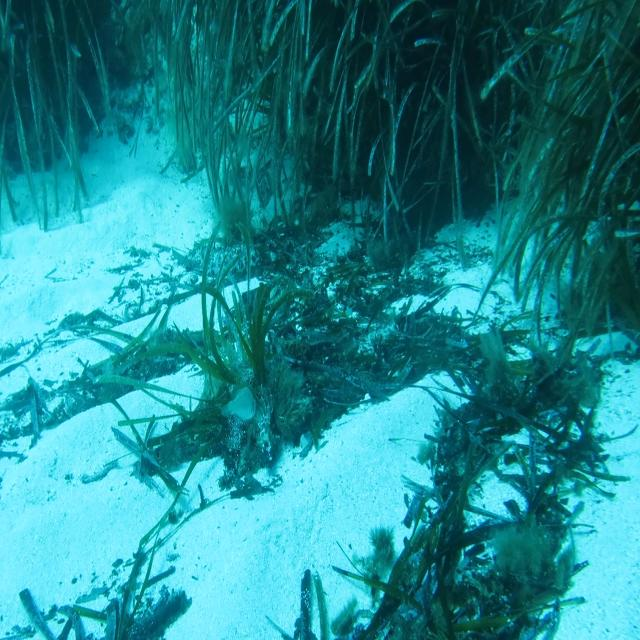SA: (220, 388, 261, 431)
vegetation: (269, 0, 640, 171), (0, 0, 265, 101), (370, 540, 558, 640)
